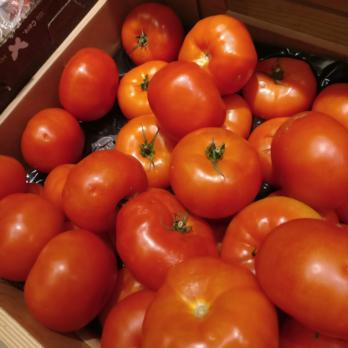Tomato: (117, 2, 277, 348), (0, 152, 181, 335), (272, 56, 348, 348), (56, 44, 125, 121), (19, 109, 94, 175)
